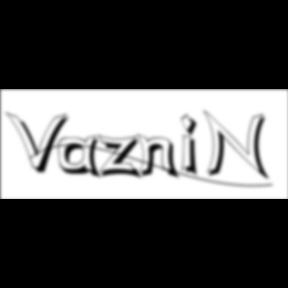N: (203, 109, 273, 183)
V: (5, 110, 72, 176)
a: (59, 135, 107, 182)
i: (181, 112, 205, 180)
n: (138, 132, 184, 181)
z: (97, 134, 146, 182)
